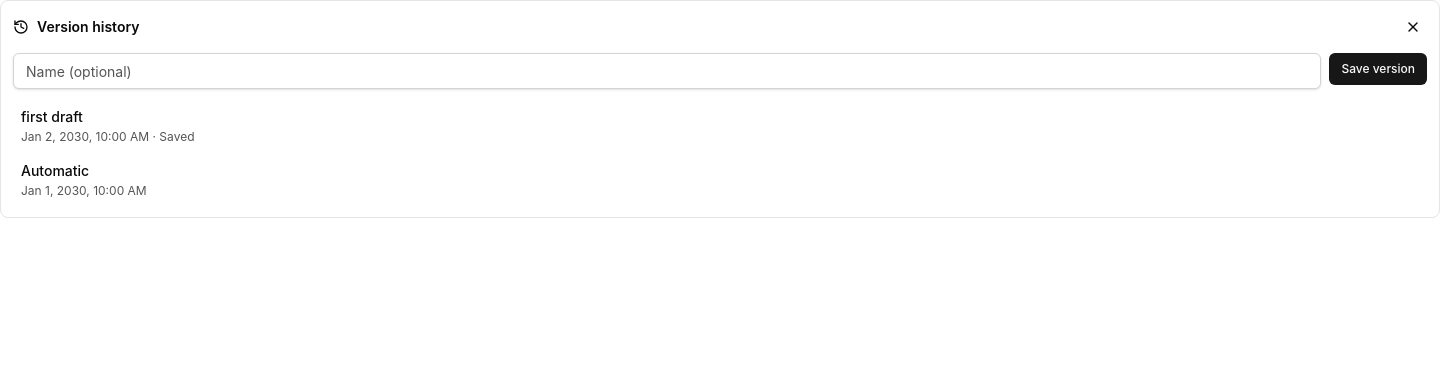
Test: VersionsPanel › says when a version cannot be previewed and reads it again on "Try again"
The width and height of the screenshot is (1440, 382).
Click the button "first draft Jan 2, 2030, 10:00 AM · Saved" at point(52, 116), box [13,101,1427,151]
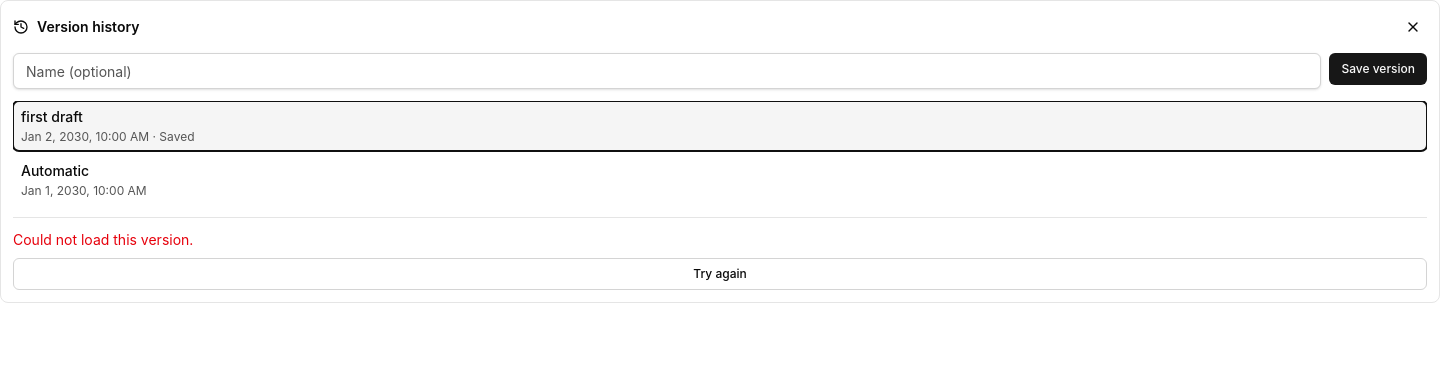
Check: the message shows "Could not load this version.", box [13,231,193,248]
Click the button "Try again" at point(720, 274), box [13,258,1427,290]
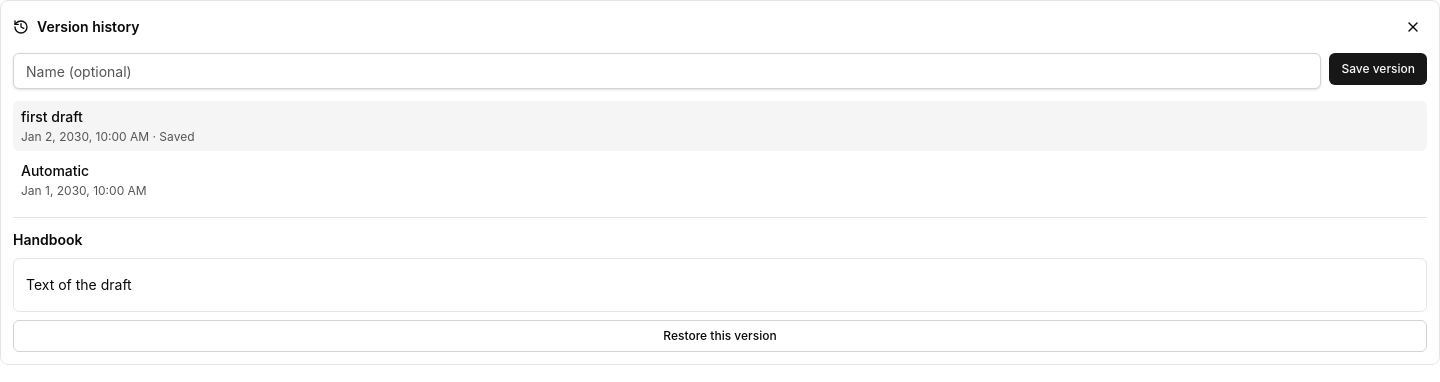
Check: the text "Text of the draft" is shown, box [26,276,132,293]
